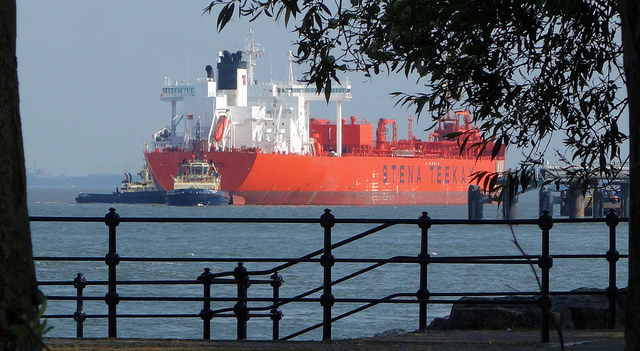tanker: (150, 37, 501, 202)
tug_boat: (165, 135, 226, 209), (79, 161, 161, 199)
